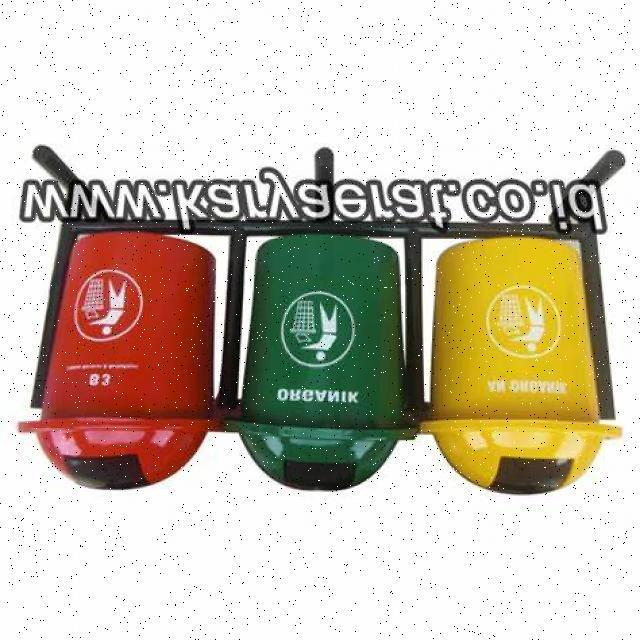garbage container: (14, 236, 245, 506), (434, 231, 640, 509), (247, 231, 423, 500)
